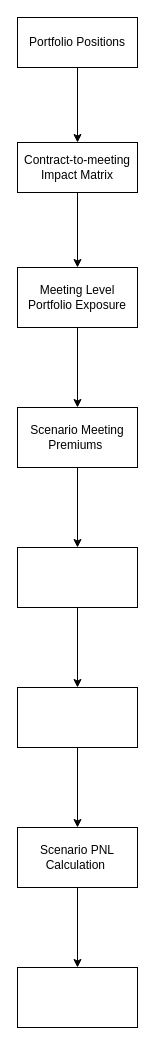
This 155x1045 diagram has some shape labels left out. Each missing label, with the centre of its shape:
"Expected Portfolio PNL" belongs at point (77, 997).
"Historical Meeting Premiums" belongs at point (77, 577).
"Multivariate Normal Probability Estimation" belongs at point (77, 717).
